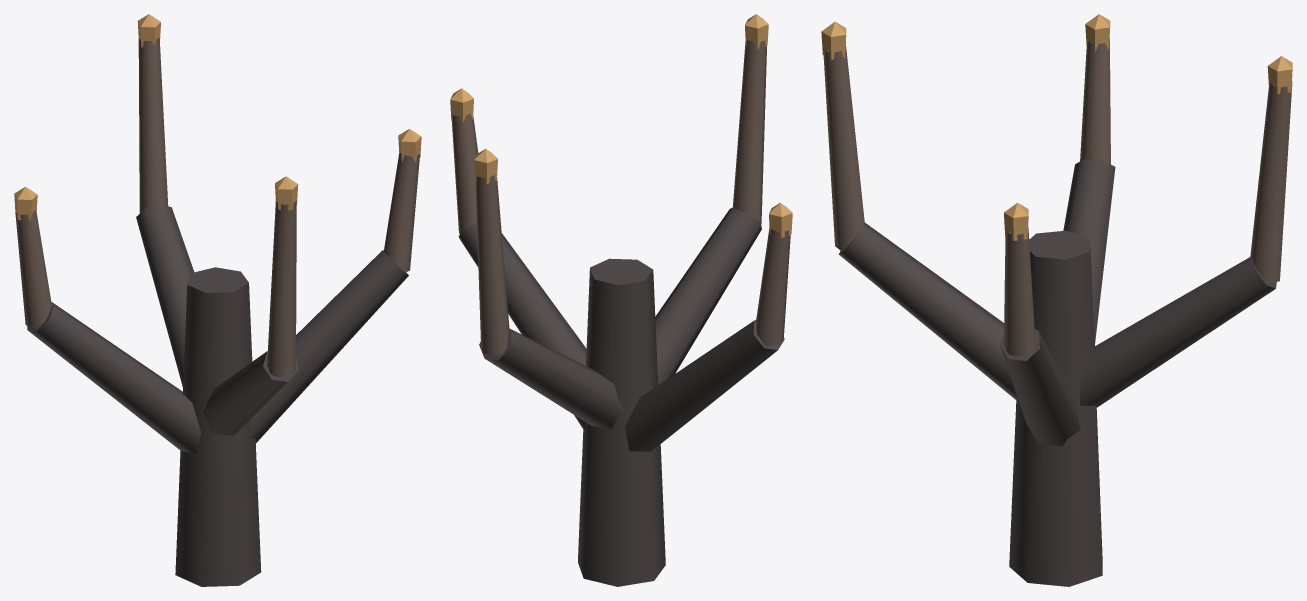
Rendered from tree-charCoral.glb.
3 renders of one model, left to right at view 1: azimuth 30°, elevation 25°; view 2: azimuth 150°, elevation 25°; view 3: azimuth 270°, elevation 25°, orthographic. The views are drawn at different scales.
Parts seen in each view (by area): view 1: root-stem, stem-7, stem-1, stem-10, stem-5, stem-11, stem-4, stem-8, stem-2, crystal-6, crystal-9, crystal-3 (+1 smaller); view 2: root-stem, stem-7, stem-4, stem-10, stem-1, stem-11, stem-5, stem-8, stem-2, crystal-12, crystal-9, crystal-6 (+1 smaller); view 3: root-stem, stem-10, stem-4, stem-5, stem-11, stem-1, stem-7, stem-2, stem-8, crystal-3, crystal-6, crystal-12 (+1 smaller).
Part boxes in pixels (x1,y1,x2,y2): root-stem: (175, 267, 261, 586); stem-7: (27, 302, 201, 454); stem-1: (248, 250, 408, 443); stem-10: (136, 205, 194, 386); stem-5: (267, 199, 296, 376); stem-11: (138, 37, 168, 213); stem-4: (202, 351, 298, 435); stem-8: (15, 209, 51, 328); stem-2: (383, 151, 419, 272); crystal-6: (275, 176, 298, 210); crystal-9: (14, 186, 37, 220); crystal-3: (398, 129, 421, 162); root-stem: (578, 258, 665, 586); stem-7: (624, 320, 784, 451); stem-4: (655, 207, 761, 384); stem-10: (479, 328, 625, 428); stem-1: (458, 222, 586, 430); stem-11: (475, 175, 509, 355); stem-5: (732, 40, 766, 223); stem-8: (756, 227, 790, 346); stem-2: (452, 113, 478, 234); crystal-12: (474, 148, 497, 183); crystal-9: (769, 202, 792, 237); crystal-6: (745, 14, 768, 49); root-stem: (1009, 230, 1102, 586); stem-10: (1080, 257, 1276, 407); stem-4: (838, 222, 1017, 399); stem-5: (823, 45, 864, 251); stem-11: (1250, 81, 1292, 284); stem-1: (999, 329, 1080, 446); stem-7: (1063, 159, 1115, 346); stem-2: (1004, 227, 1035, 356); stem-8: (1080, 39, 1110, 164); crystal-3: (1004, 202, 1028, 240); crystal-6: (821, 21, 846, 59); crystal-12: (1267, 56, 1292, 94).
Size of the model in its own units: 3.66 by 4.51 by 3.65.
